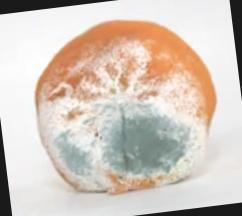Orange Rotten: (20, 1, 233, 216)
